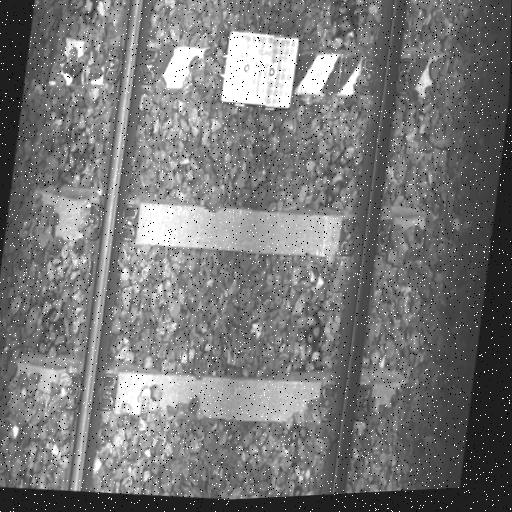sleeper: (7, 336, 416, 474), (28, 166, 437, 295), (44, 13, 456, 134)
